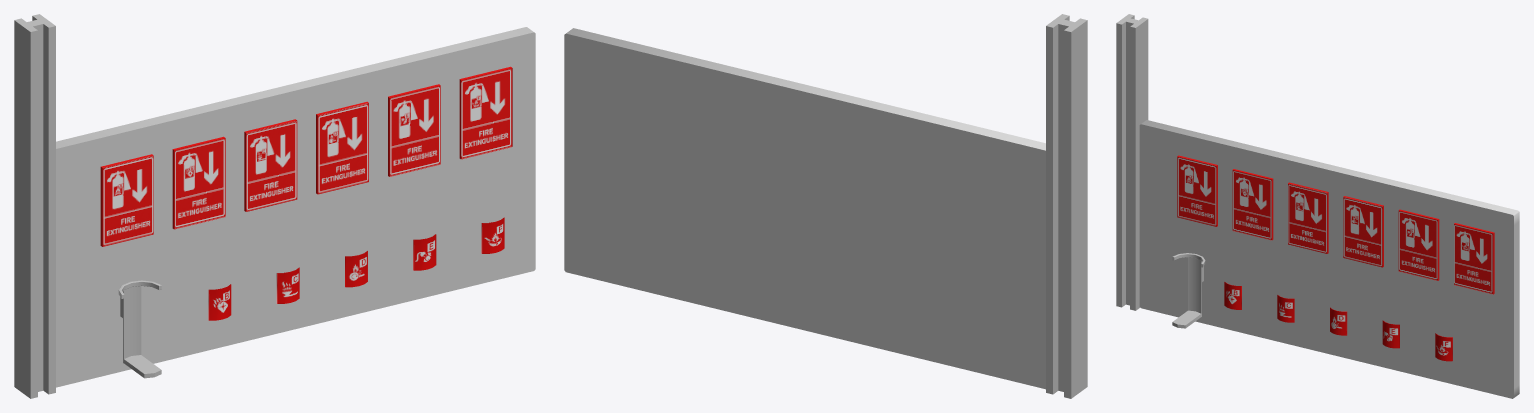
Rendered from TubeHolder.fbx.
3 views of the same model, side by side, from view 1: azimuth 30°, elevation 25°; view 2: azimuth 150°, elevation 25°; view 3: azimuth 330°, elevation 25° (orthographic). The views are drawn at different scales.
Visible parts, largest first — view 1: TubeHolderPlate, ZoneMetalProfile.001, BT, CT, FT, AT, DT, ET, Cube.004, ES, BS, CS (+2 smaller); view 2: TubeHolderPlate, ZoneMetalProfile.001; view 3: TubeHolderPlate, ZoneMetalProfile.001, BT, ET, FT, AT, CT, DT, Cube.004, CS, DS, ES (+2 smaller).
Boxes of the visible parts, x1=… form: TubeHolderPlate: x1=56, y1=27, x2=535, y2=387; ZoneMetalProfile.001: x1=14, y1=14, x2=55, y2=398; BT: x1=172, y1=136, x2=225, y2=229; CT: x1=244, y1=119, x2=297, y2=211; FT: x1=459, y1=66, x2=512, y2=159; AT: x1=100, y1=154, x2=153, y2=246; DT: x1=316, y1=101, x2=368, y2=194; ET: x1=388, y1=84, x2=440, y2=176; Cube.004: x1=118, y1=280, x2=161, y2=378; ES: x1=413, y1=234, x2=436, y2=270; BS: x1=208, y1=284, x2=231, y2=320; CS: x1=276, y1=267, x2=299, y2=303; TubeHolderPlate: x1=564, y1=28, x2=1045, y2=389; ZoneMetalProfile.001: x1=1046, y1=14, x2=1087, y2=398; TubeHolderPlate: x1=1139, y1=120, x2=1519, y2=398; ZoneMetalProfile.001: x1=1116, y1=14, x2=1148, y2=310; BT: x1=1232, y1=169, x2=1273, y2=240; ET: x1=1398, y1=209, x2=1439, y2=280; FT: x1=1454, y1=223, x2=1494, y2=294; AT: x1=1177, y1=155, x2=1217, y2=226; CT: x1=1288, y1=182, x2=1328, y2=253; DT: x1=1343, y1=196, x2=1383, y2=267; Cube.004: x1=1172, y1=253, x2=1205, y2=328; CS: x1=1277, y1=295, x2=1294, y2=322; DS: x1=1330, y1=307, x2=1347, y2=335; ES: x1=1382, y1=320, x2=1399, y2=348.
Size of the model in its own units: 2.62 by 0.3416 by 1.8.
